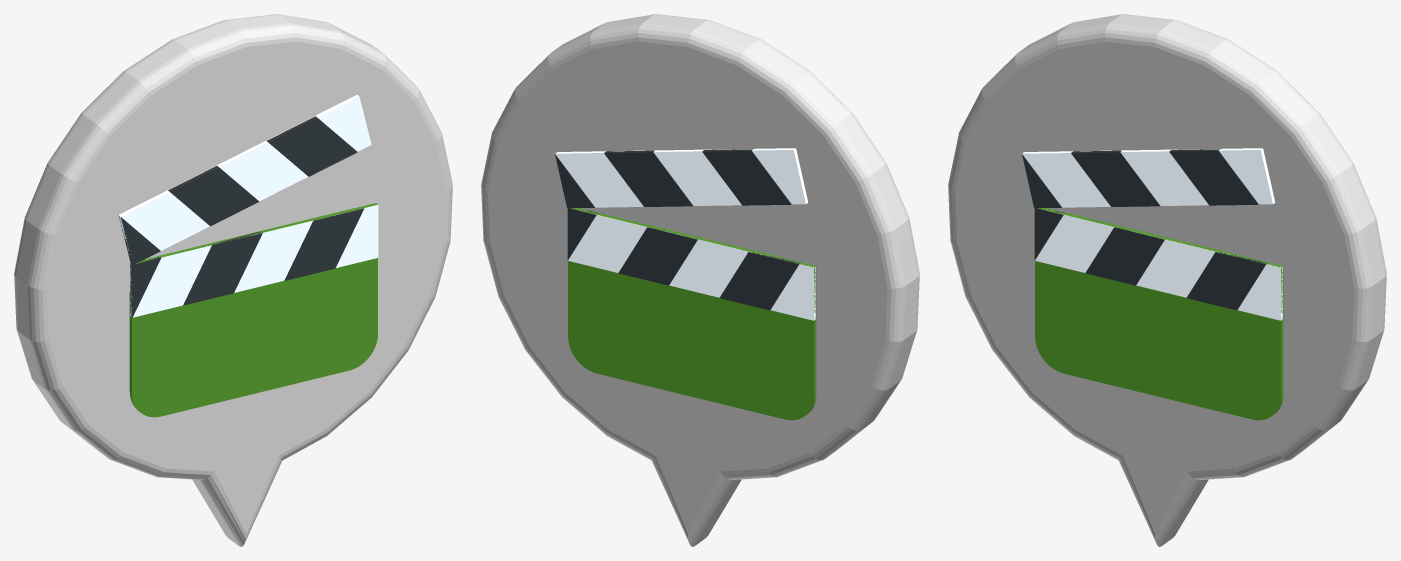
Rendered from clapper.glb.
The picture shows the model from 3 angles, left to right: view 1: azimuth 30°, elevation 25°; view 2: azimuth 150°, elevation 25°; view 3: azimuth 330°, elevation 25°; orthographic projection.
Parts seen in each view (by area): view 1: EmotionBubble; view 2: EmotionBubble; view 3: EmotionBubble.
Part boxes in pixels (<box>): EmotionBubble: <box>14,14,452,546</box>; EmotionBubble: <box>481,14,919,546</box>; EmotionBubble: <box>948,14,1386,546</box>.
Size of the model in its own units: 5.29 by 6.16 by 0.724.
